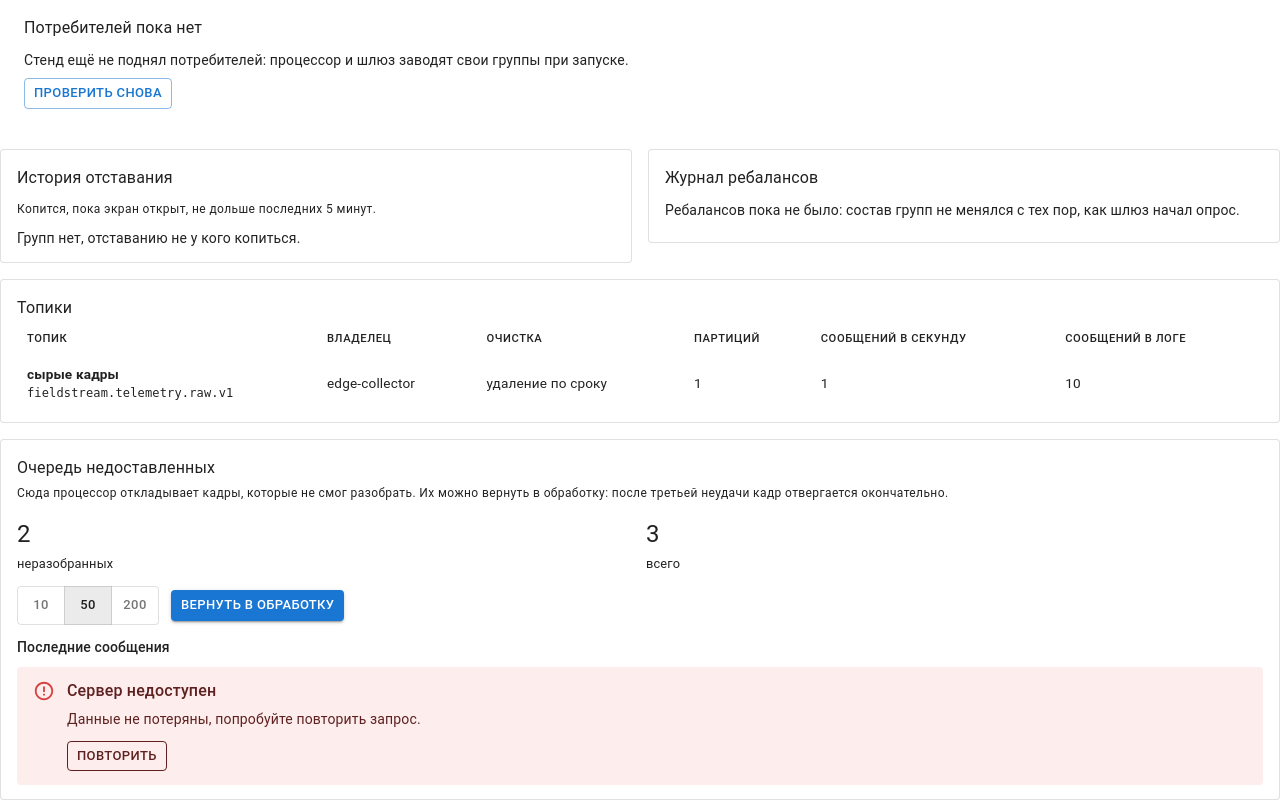
Test: очередь недоставленных на экране конвейера › ошибка списка объяснена, а повтор возвращает сообщения
(page scrolled)
Check: the message shows "Сервер недоступен", box [67,681,216,700]
Click the button "Повторить": point(117, 756) [67,741,167,772]
(page scrolled)
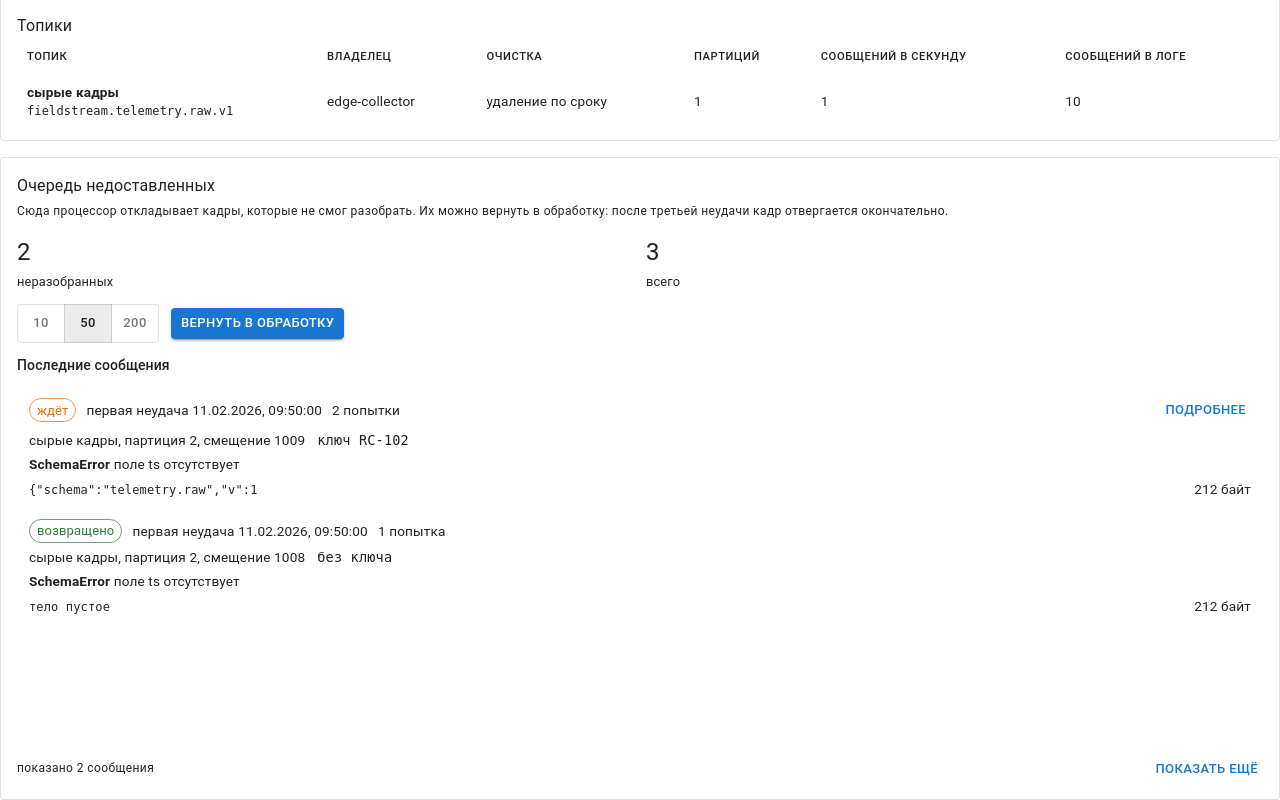
Check: the element named "Сообщения очереди недоставленных" is shown, box [17,385,1263,745]
Check: the message "Сервер недоступен Данные не потеряны, попробуйте повторить запрос. Повторить" is gone
